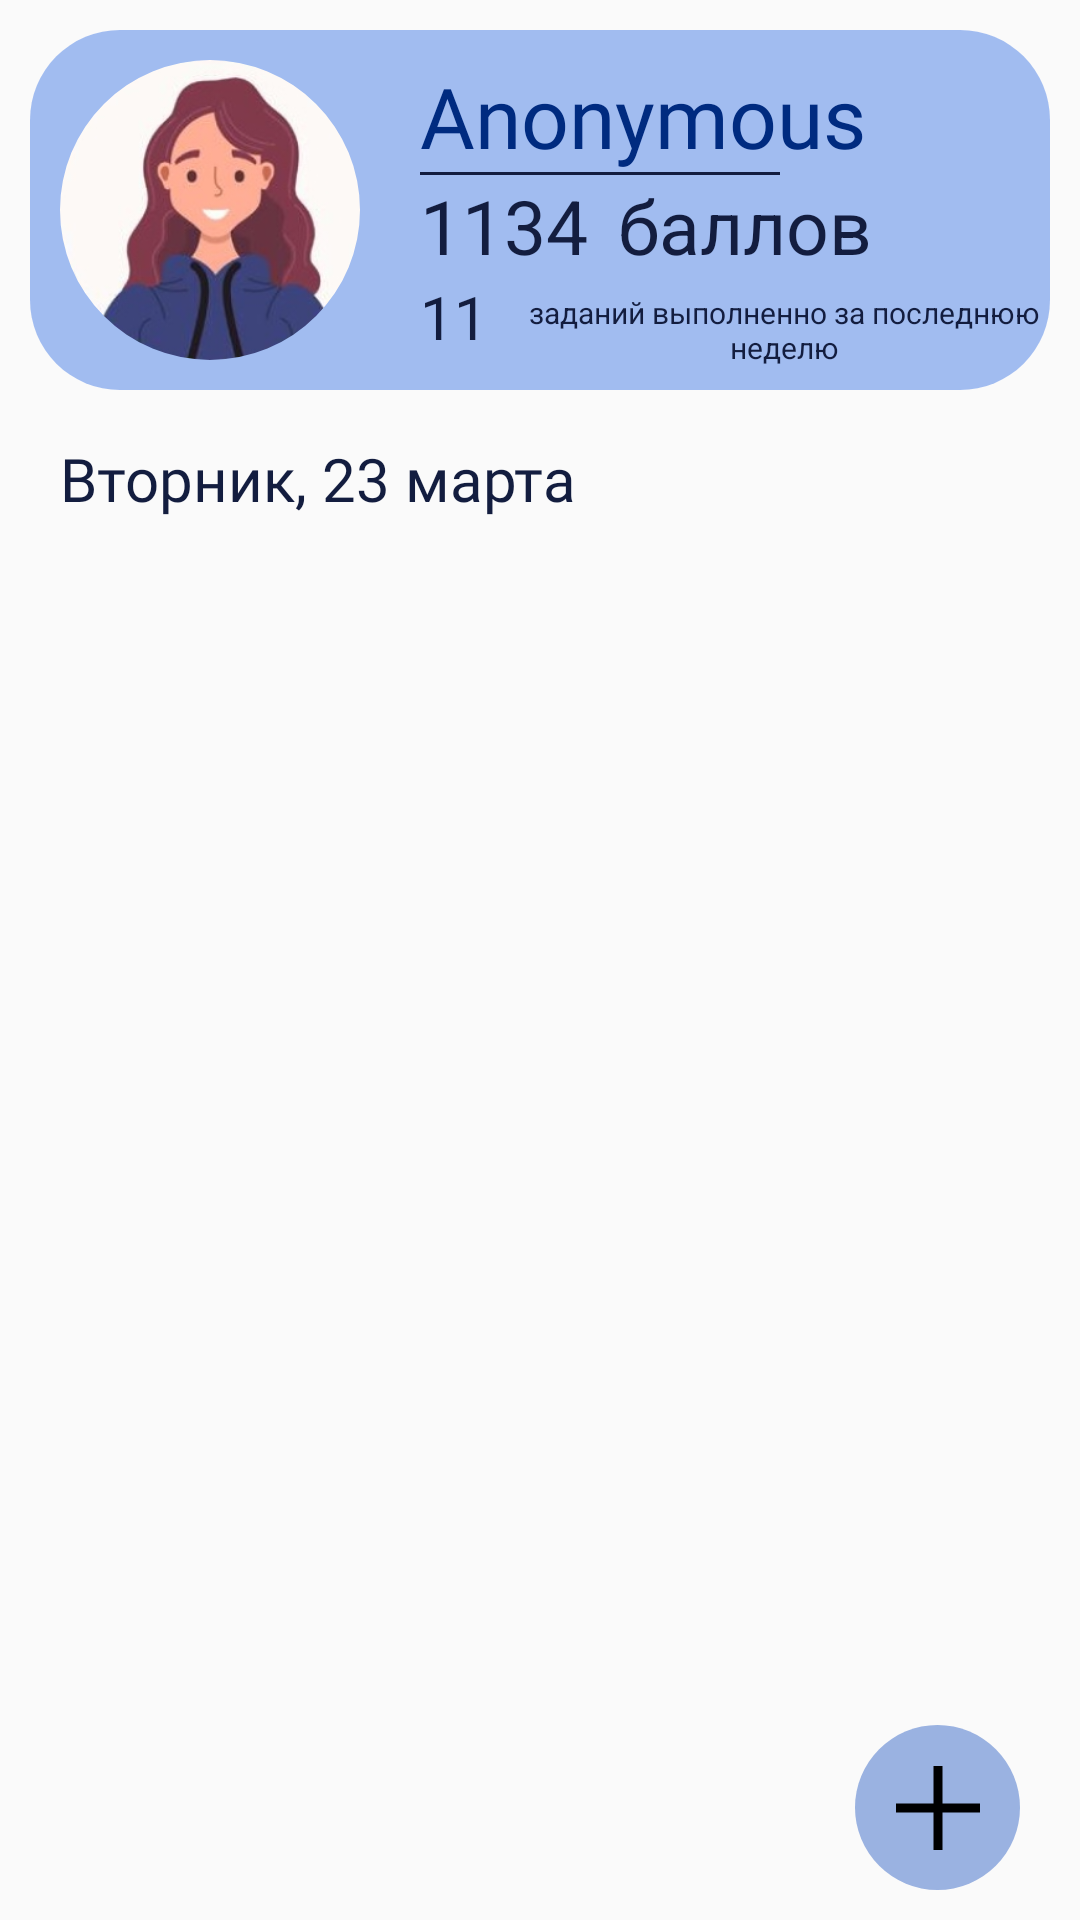

Named icons in this screenshot (1080x1920) and their bounding boxes, (x1, y1, x2, y2):
plus: (855, 1725, 1020, 1890)
